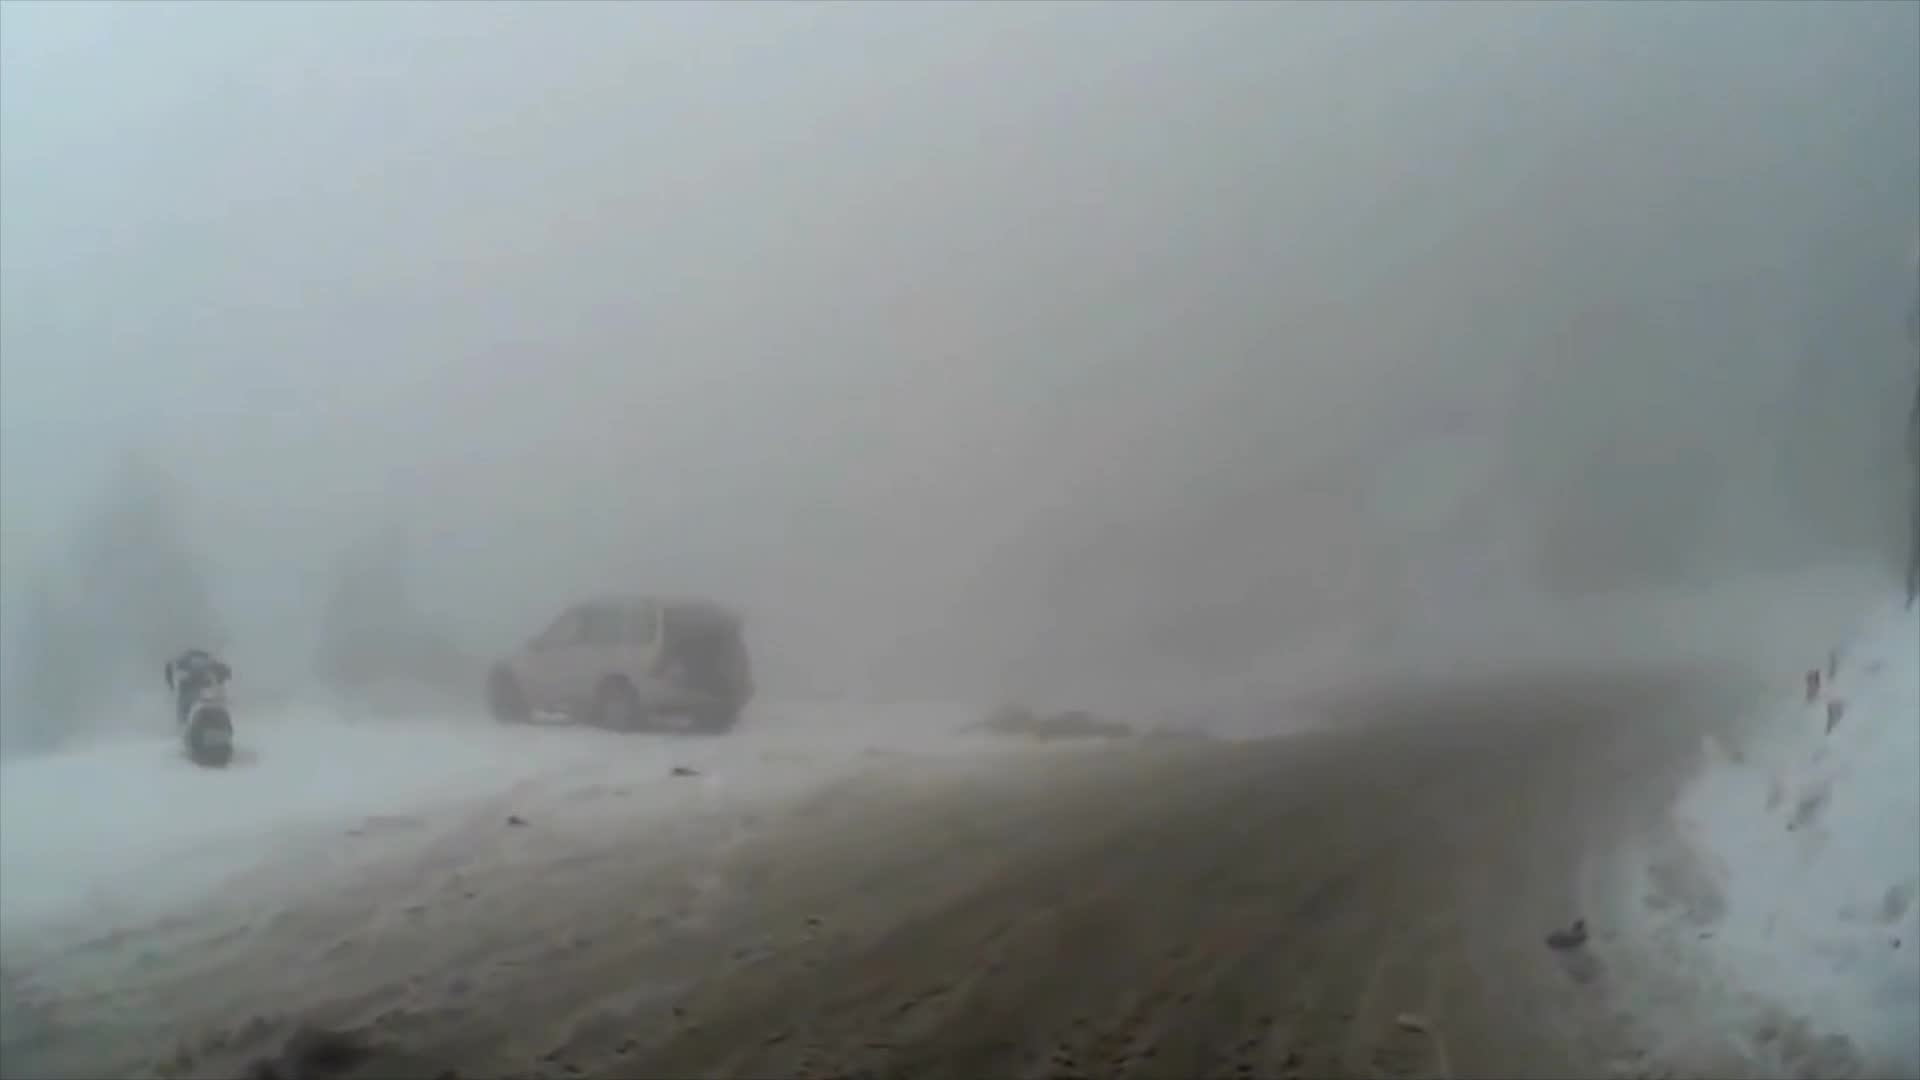vehicle: (483, 589, 754, 735)
